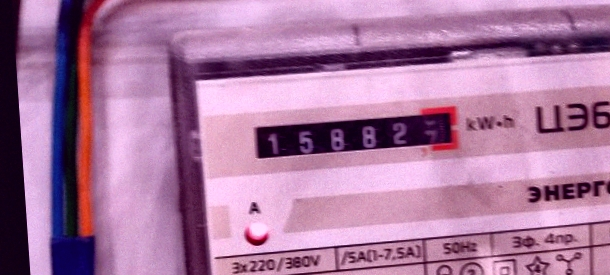1: (266, 130, 281, 156)
2: (391, 119, 409, 146)
5: (297, 128, 314, 154)
7: (423, 127, 438, 143)
8: (359, 122, 377, 148), (328, 126, 346, 151)
screen: (240, 98, 470, 173)
